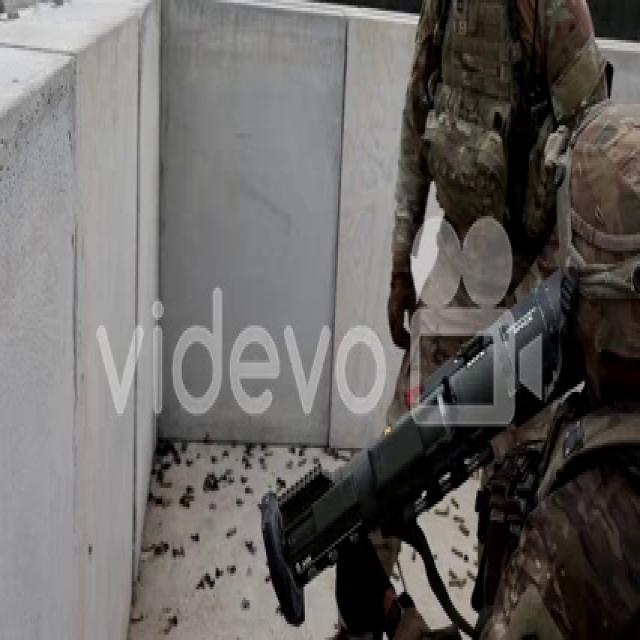bazooka: (256, 273, 578, 636)
